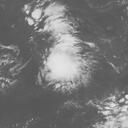cyclone: (36, 37, 95, 94)
